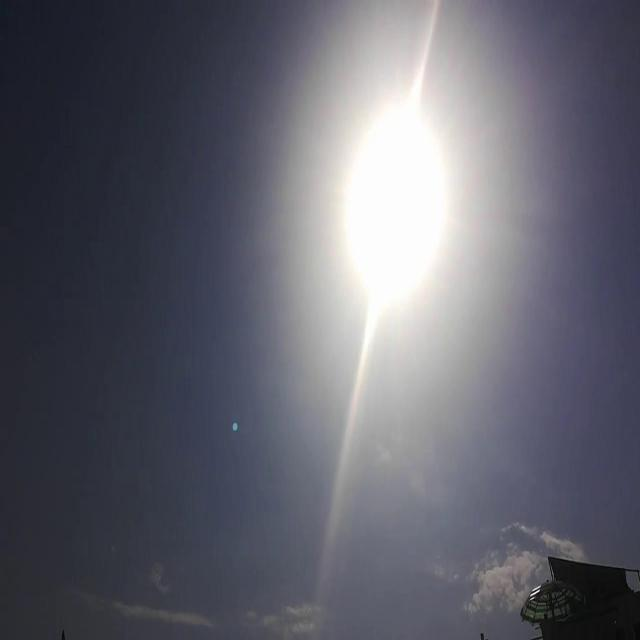other: (314, 66, 497, 402)
